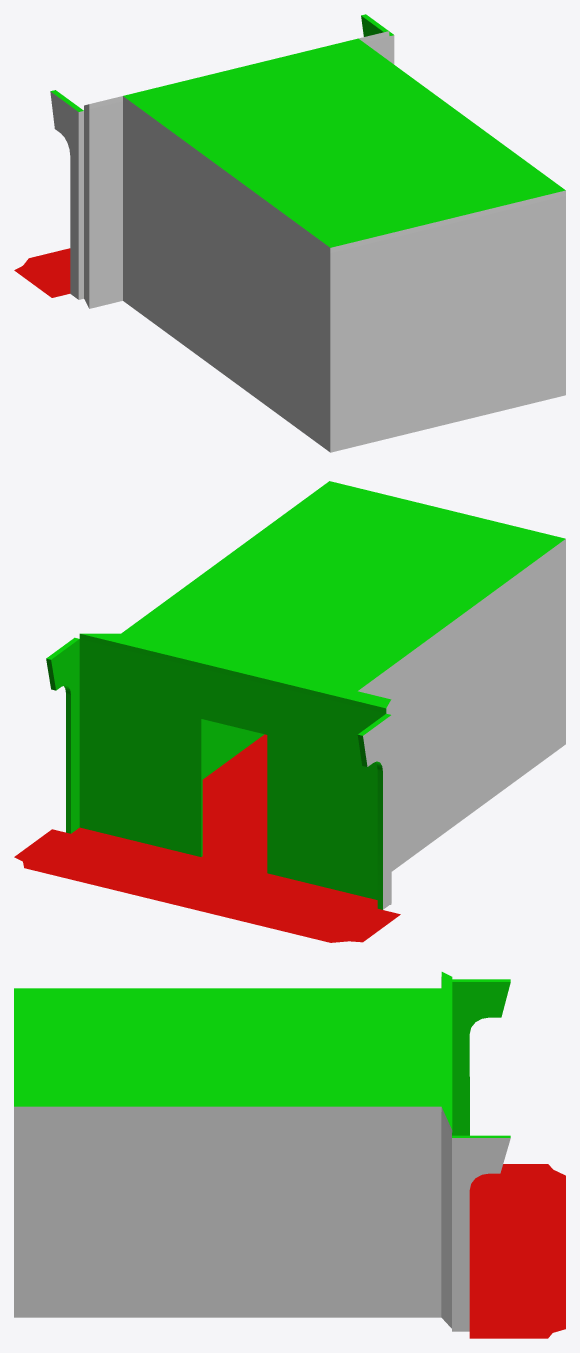
The model's file is Room.fbx.
3 renders of one model, top to bottom at view 1: azimuth 30°, elevation 25°; view 2: azimuth 150°, elevation 25°; view 3: azimuth 270°, elevation 25°, orthographic. The views are drawn at different scales.
Parts seen in each view (by area): view 1: Cube; view 2: Cube; view 3: Cube.
Part boxes in pixels (x1,y1,x2,y2): Cube: [14, 14, 565, 452]; Cube: [14, 481, 565, 942]; Cube: [14, 972, 565, 1338].
Bounding box in the file's own units: 581 × 327 × 776.
